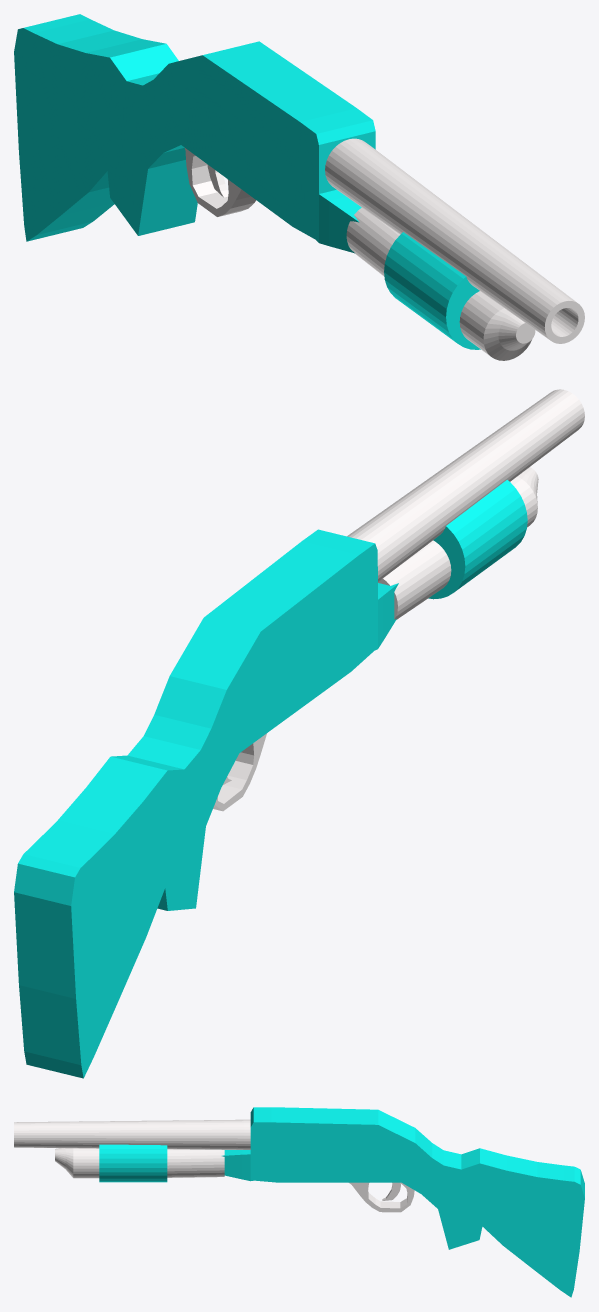
File: _horGun.fbx
The picture shows the model from 3 angles, top to bottom: view 1: azimuth 30°, elevation 25°; view 2: azimuth 150°, elevation 25°; view 3: azimuth 270°, elevation 25°; orthographic projection. The views are drawn at different scales.
Parts seen in each view (by area): view 1: Cube, Cylinder, Cylinder.002, Cylinder.001, Cube.001; view 2: Cube, Cylinder, Cylinder.002, Cylinder.001, Cube.001; view 3: Cube, Cylinder, Cylinder.001, Cylinder.002, Cube.001.
Boxes of the visible parts, x1=… form: Cube: x1=14, y1=14, x2=375, y2=253; Cylinder: x1=325, y1=138, x2=584, y2=343; Cylinder.002: x1=384, y1=232, x2=480, y2=349; Cylinder.001: x1=346, y1=207, x2=535, y2=360; Cube.001: x1=184, y1=148, x2=255, y2=216; Cube: x1=14, y1=529, x2=398, y2=1078; Cylinder: x1=347, y1=389, x2=584, y2=581; Cylinder.002: x1=428, y1=480, x2=527, y2=599; Cylinder.001: x1=378, y1=467, x2=538, y2=619; Cube.001: x1=213, y1=733, x2=266, y2=811; Cube: x1=222, y1=1107, x2=584, y2=1297; Cylinder: x1=14, y1=1119, x2=250, y2=1149; Cylinder.001: x1=55, y1=1148, x2=224, y2=1178; Cylinder.002: x1=99, y1=1144, x2=167, y2=1182; Cube.001: x1=349, y1=1182, x2=414, y2=1212.
Size of the model in its own units: 37.42 by 145 by 429.
